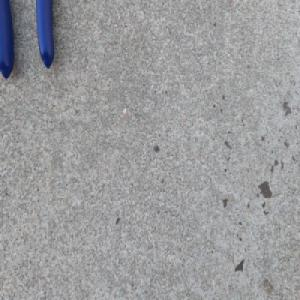Pliers: (0, 0, 56, 79)
